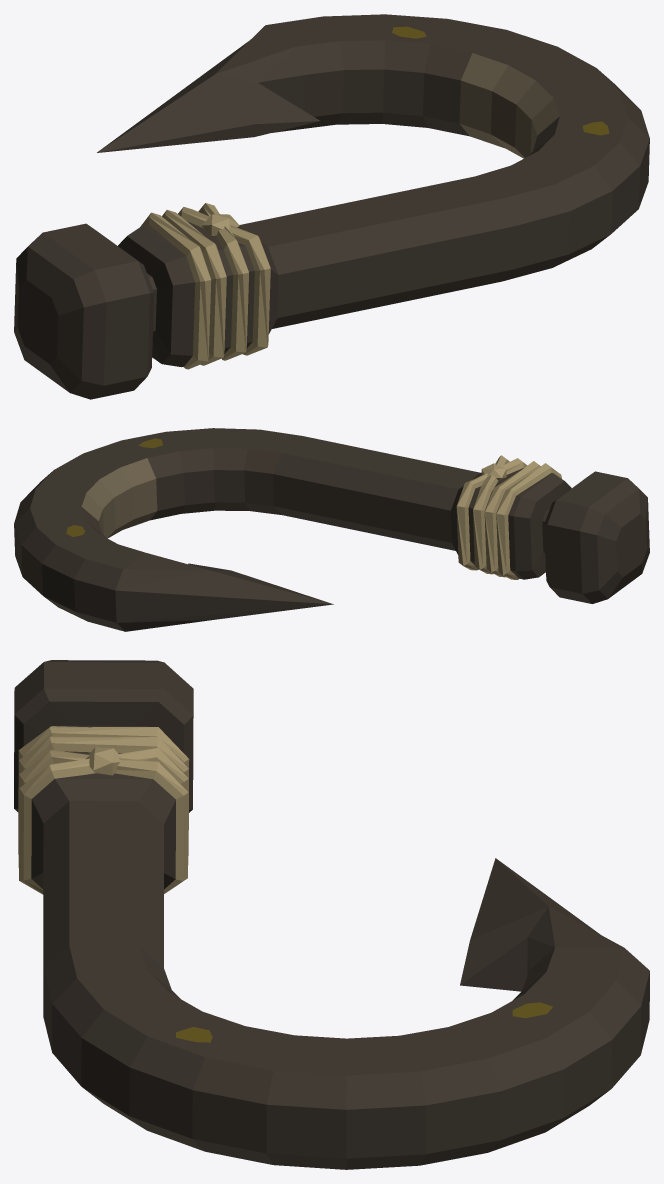
The model's file is mangai-stone-fishhook-389db5.glb.
The picture shows the model from 3 angles, top to bottom: view 1: azimuth 30°, elevation 25°; view 2: azimuth 150°, elevation 25°; view 3: azimuth 270°, elevation 25°; orthographic projection. The views are drawn at different scales.
Parts seen in each view (by area): view 1: mangai-body; view 2: mangai-body; view 3: mangai-body.
Boxes of the visible parts, x1,y1,x2,y2 form: mangai-body: (14, 14, 649, 399); mangai-body: (14, 428, 649, 631); mangai-body: (14, 660, 649, 1169).
Bounding box in the file's own units: 0.1002 × 0.0183 × 0.0696.
